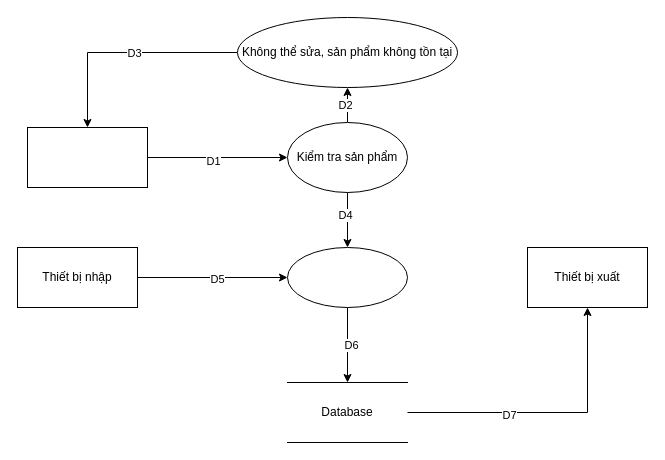
The diagram is 665 pixels wide and 460 high, and some of its shapes have lost their labels. Each missing label, with the centre of its shape:
"Admin" belongs at (x=87, y=157).
"Sửa sản phẩm" belongs at (x=347, y=277).
